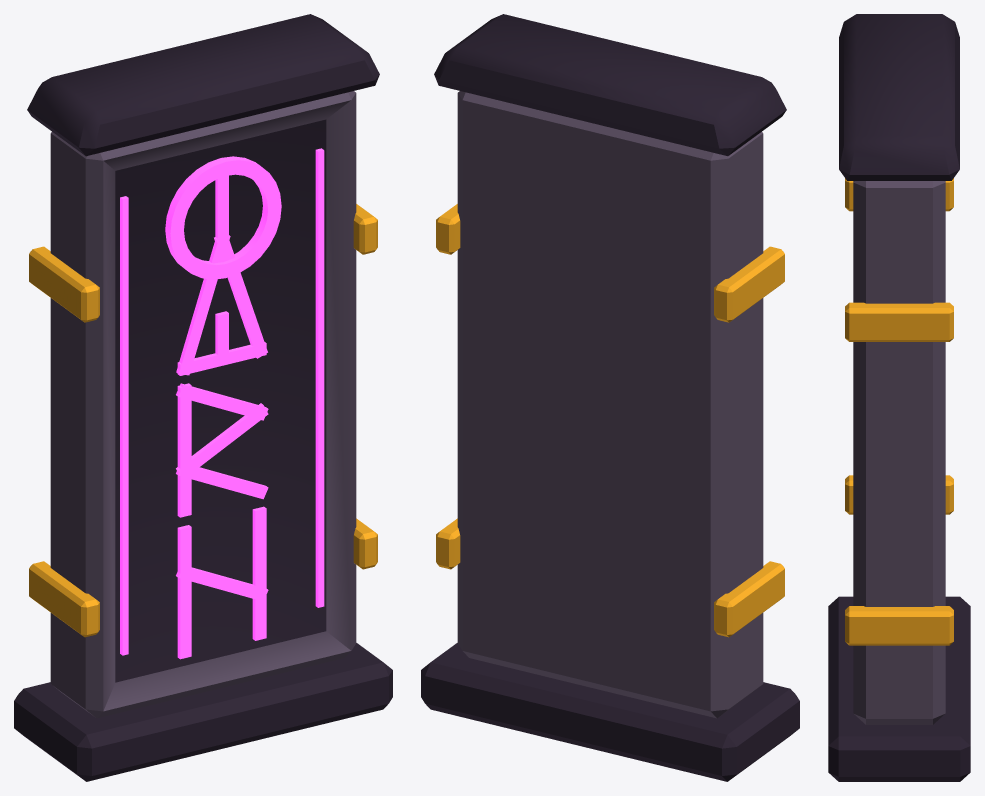
Rendered from rune_panel.glb.
3 views of the same model, side by side, from view 1: azimuth 30°, elevation 25°; view 2: azimuth 150°, elevation 25°; view 3: azimuth 270°, elevation 25° (orthographic). The views are drawn at different scales.
Visible parts, largest first — view 1: Body; view 2: Body; view 3: Body.
Part boxes in pixels (x1,y1,x2,y2): Body: (14, 14, 392, 781); Body: (421, 14, 799, 781); Body: (828, 14, 970, 781).
Size of the model in its own units: 0.84 by 1.68 by 0.34.
